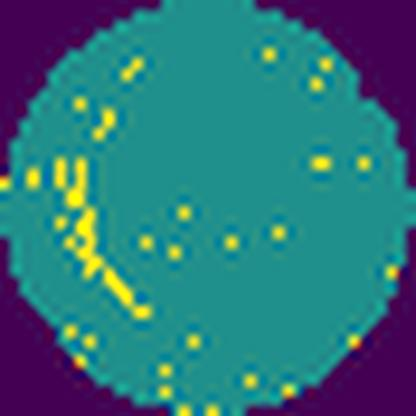Loc: (47, 153, 153, 325)
